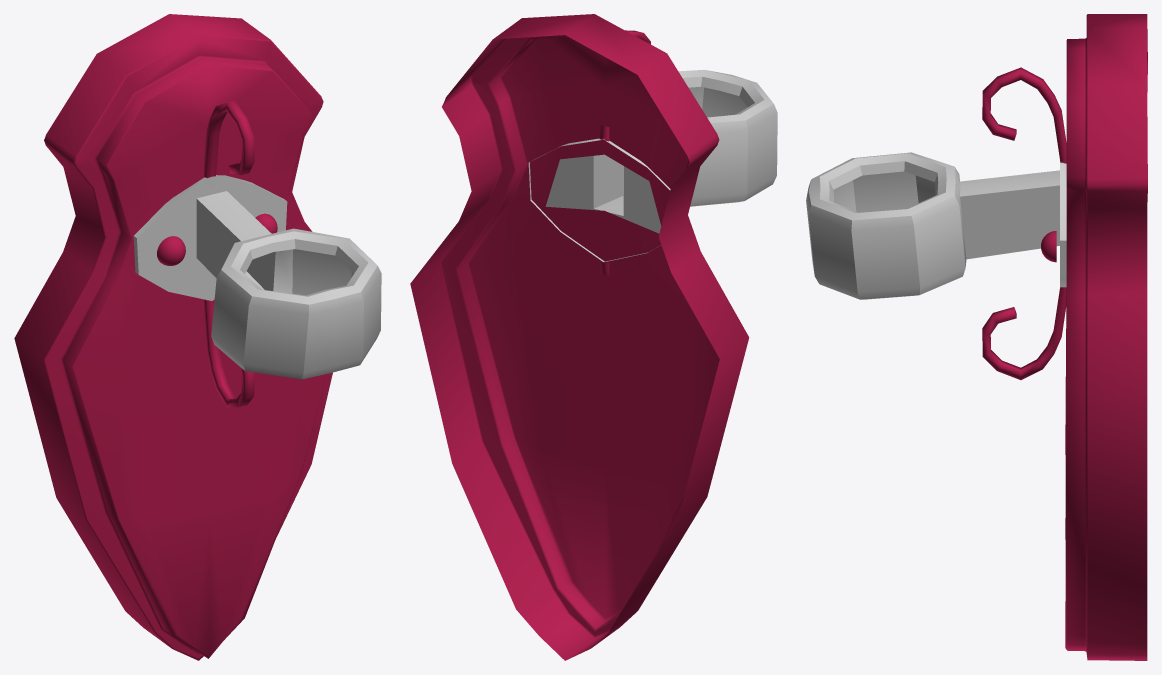
Rendered from 횃불 받침대.fbx.
The picture shows the model from 3 angles, left to right: view 1: azimuth 30°, elevation 25°; view 2: azimuth 150°, elevation 25°; view 3: azimuth 270°, elevation 25°; orthographic projection.
Parts seen in each view (by area): view 1: 횃불 받침대1_low; view 2: 횃불 받침대1_low; view 3: 횃불 받침대1_low.
Part boxes in pixels (x1,y1,x2,y2): 횃불 받침대1_low: [14, 14, 381, 660]; 횃불 받침대1_low: [410, 14, 777, 660]; 횃불 받침대1_low: [806, 14, 1147, 660].
Bounding box in the file's own units: 18.7 × 36.11 × 17.66.
